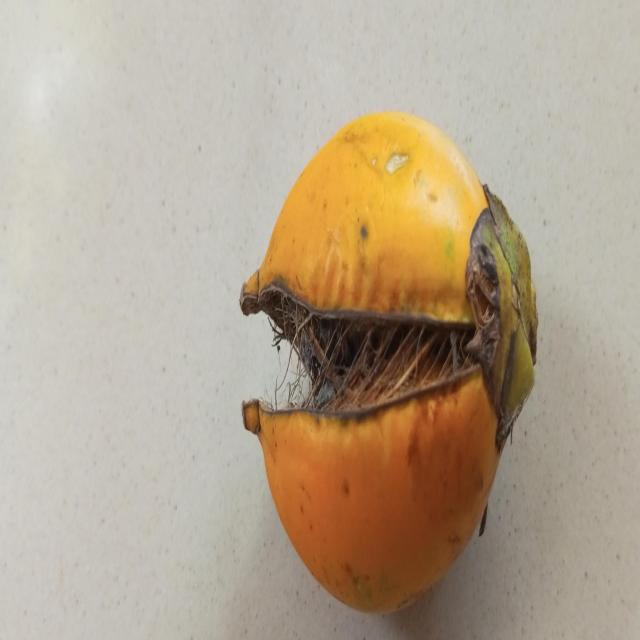damaged: (240, 113, 539, 614)
